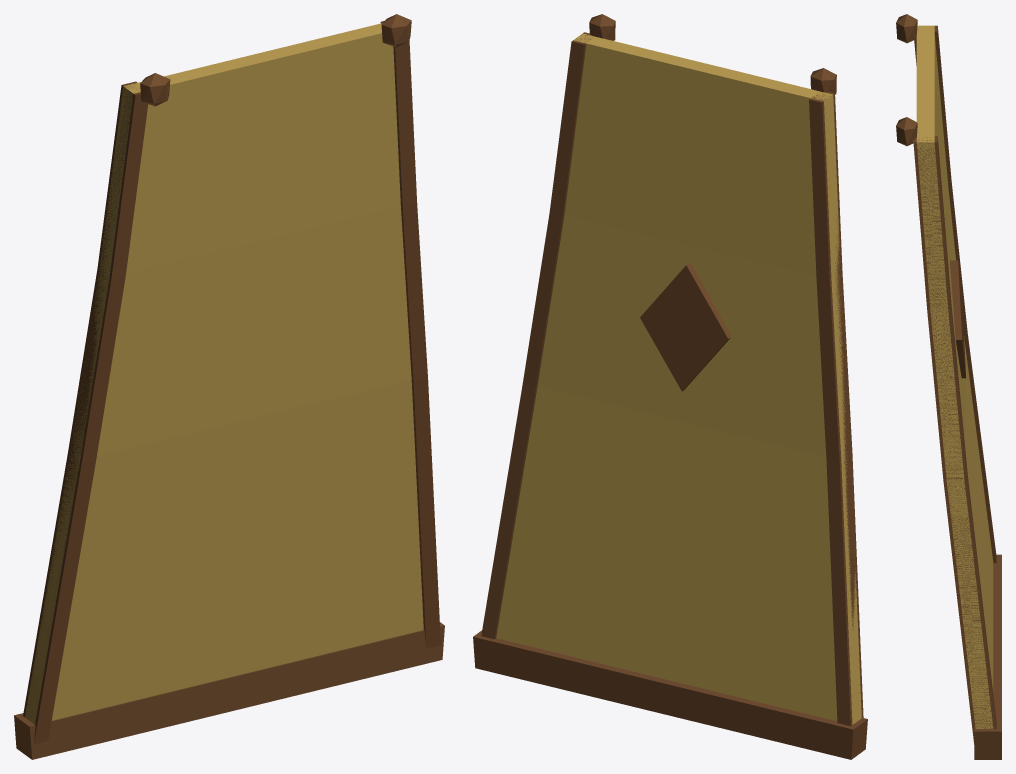
File: gear_cape_crafting.glb
3 renders of one model, left to right at view 1: azimuth 30°, elevation 25°; view 2: azimuth 150°, elevation 25°; view 3: azimuth 270°, elevation 25°, orthographic. The views are drawn at different scales.
Parts seen in each view (by area): view 1: gear_cape_crafting; view 2: gear_cape_crafting; view 3: gear_cape_crafting.
Boxes of the visible parts, x1,y1,x2,y2 form: gear_cape_crafting: (14,14,444,759); gear_cape_crafting: (473,14,867,759); gear_cape_crafting: (896,14,1001,759).
Bounding box in the file's own units: 0.516 × 0.825 × 0.1304.
